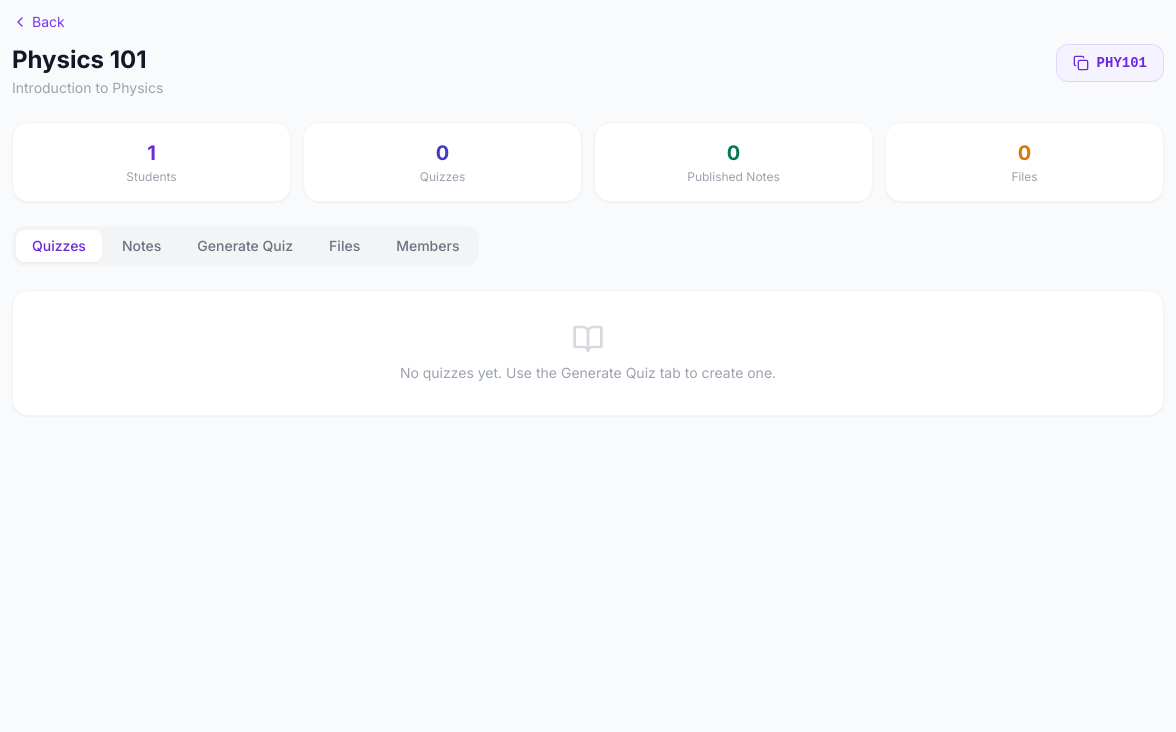
it: ClassView - FEAT-002 › handles student profile with missing full_name
Check: the heading "Physics 101" is shown, box [12,44,163,76]
# Click Members tab
Click the button "Members".
click(428, 246)  # box [380,230,476,262]
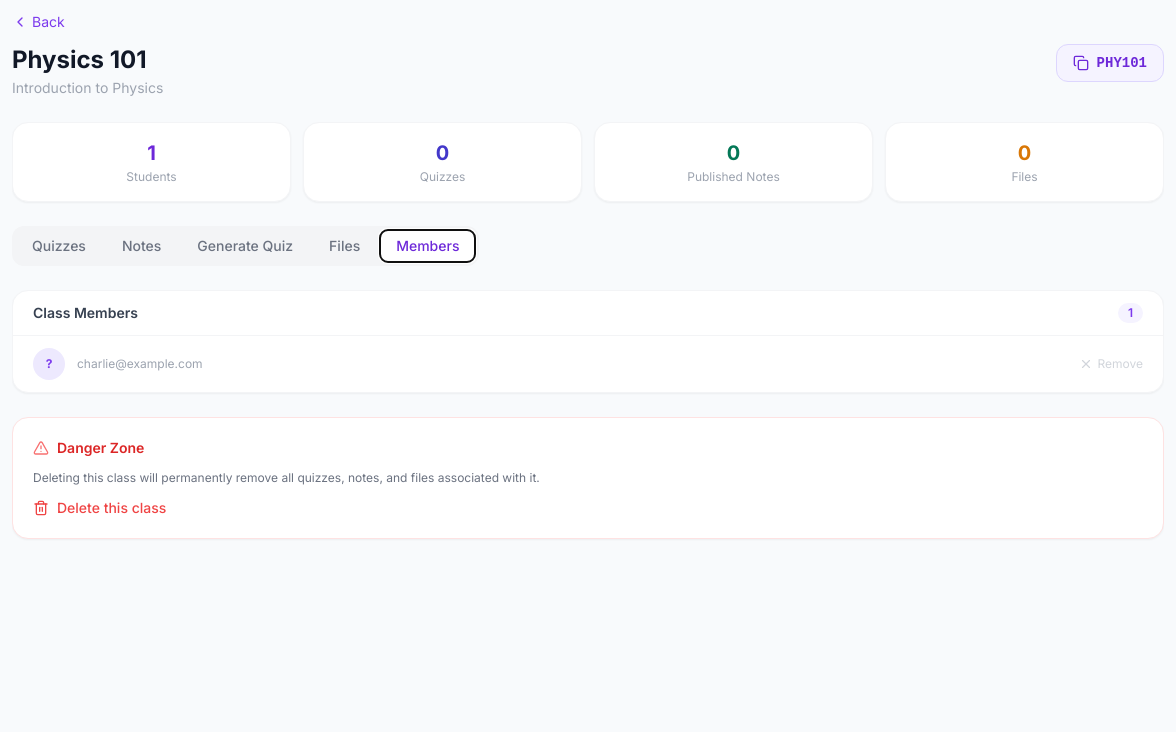
Check: the text "charlie@example.com" is shown, box [77,356,203,371]
